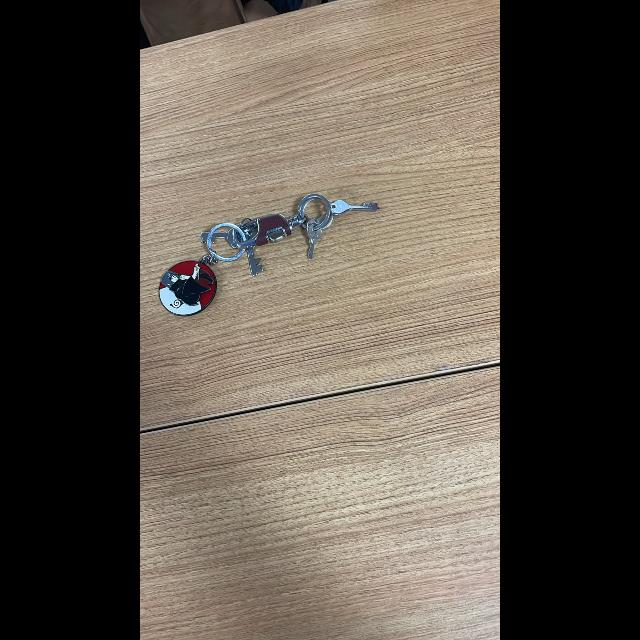keys: (156, 181, 387, 325)
